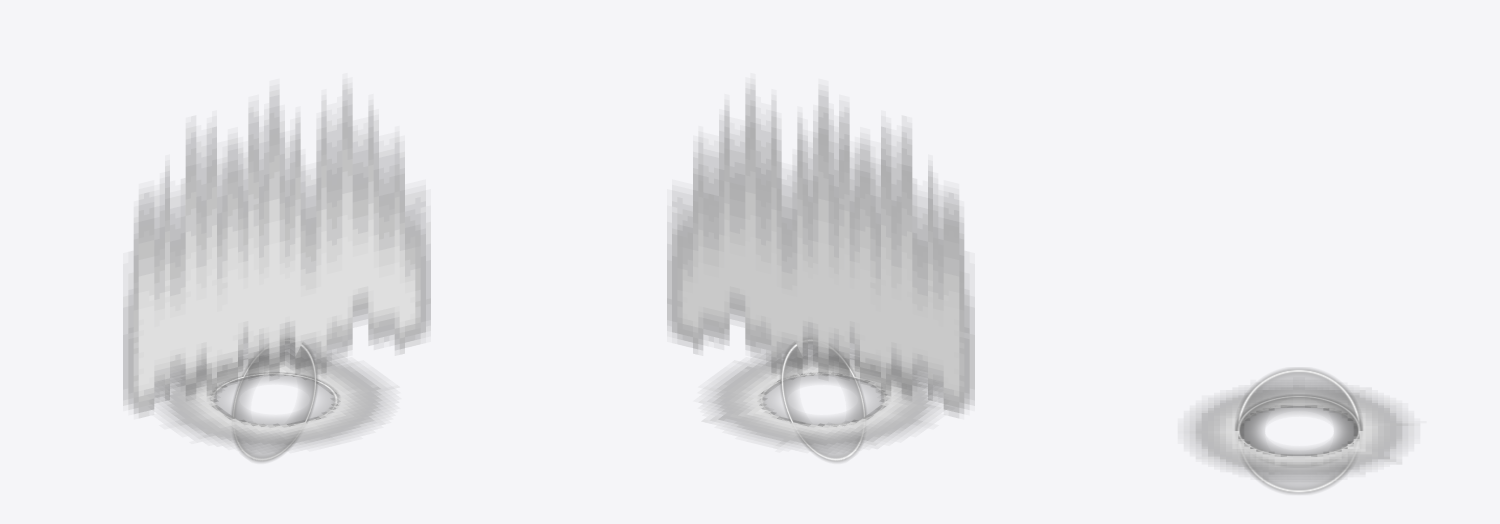
File: si_eoso_4000.glb
The picture shows the model from 3 angles, left to right: view 1: azimuth 30°, elevation 25°; view 2: azimuth 150°, elevation 25°; view 3: azimuth 270°, elevation 25°; orthographic projection. The views are drawn at different scales.
Parts seen in each view (by area): view 1: layer_02_si_eoso_4002, layer_00_si_eoso_4000, layer_01_si_eoso_4001; view 2: layer_02_si_eoso_4002, layer_00_si_eoso_4000, layer_01_si_eoso_4001; view 3: layer_00_si_eoso_4000, layer_01_si_eoso_4001.
Boxes of the visible parts, left/top/right/bottom form: layer_02_si_eoso_4002: left=123, top=89, right=430, bottom=413; layer_00_si_eoso_4000: left=162, top=351, right=388, bottom=447; layer_01_si_eoso_4001: left=210, top=338, right=338, bottom=462; layer_02_si_eoso_4002: left=667, top=89, right=974, bottom=413; layer_00_si_eoso_4000: left=707, top=353, right=935, bottom=448; layer_01_si_eoso_4001: left=760, top=338, right=886, bottom=462; layer_00_si_eoso_4000: left=1190, top=385, right=1408, bottom=476; layer_01_si_eoso_4001: left=1235, top=368, right=1362, bottom=493.
Bounding box in the file's own units: 256 × 294 × 256.
Materials: 3 (3 with a texture image).
